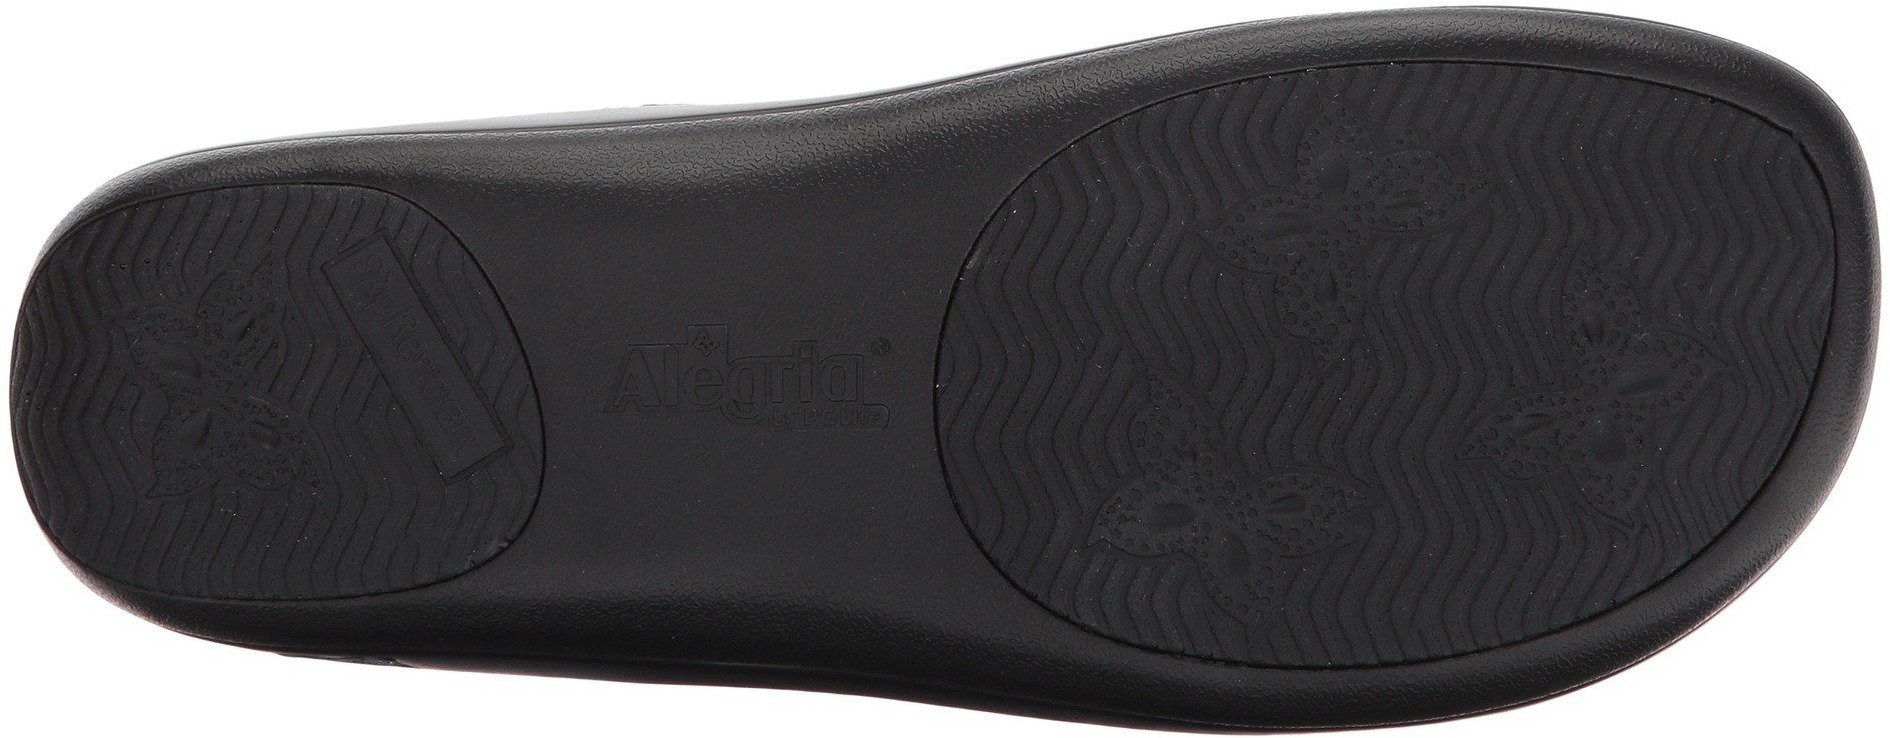chevron: (1011, 169, 1178, 330), (1633, 121, 1786, 279), (1387, 240, 1536, 389), (1389, 504, 1513, 631)
other: (645, 453, 886, 651), (636, 122, 856, 305)
quad: (289, 225, 533, 497)
text: (605, 312, 716, 441), (720, 336, 822, 443), (378, 330, 472, 424)
